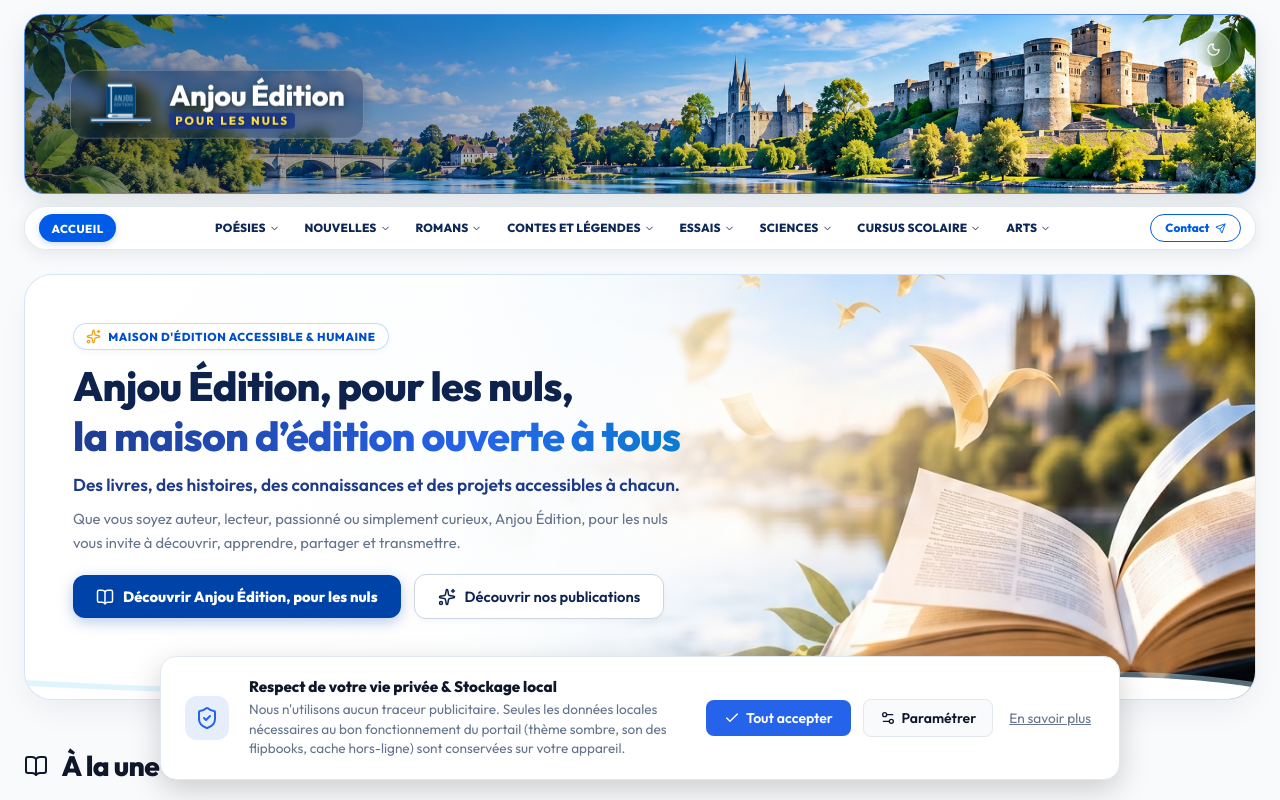
Anjou Édition Presentation Article & Homepage Integration › clicking featured article card or hero CTA navigates to full article reader view
The image size is (1280, 800).
Click the button "Découvrir Anjou Édition, pour les nuls": x=237, y=597 [73,575,401,618]
(page scrolled)
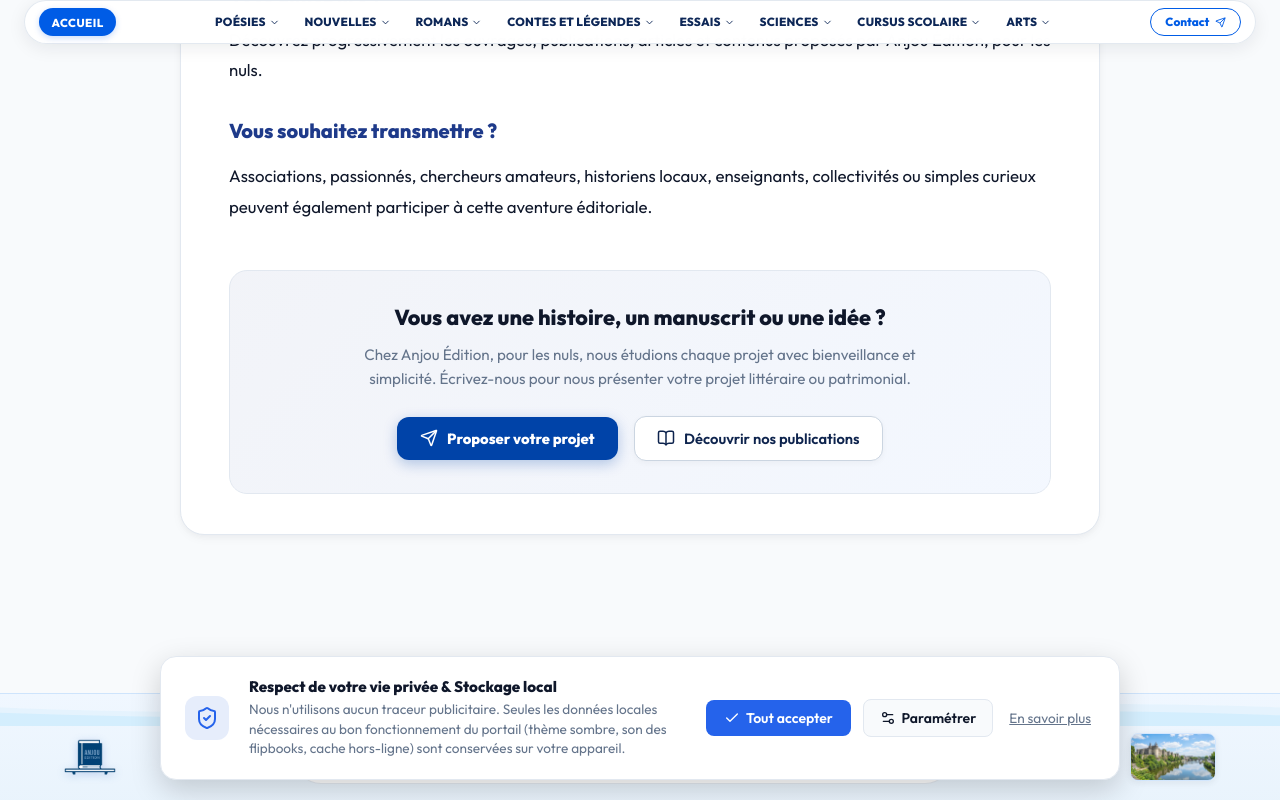
Expected: the button "Découvrir nos publications" is shown, [634,416,883,460]
Expected: the button "Proposer votre projet" is shown, [397,416,618,460]
